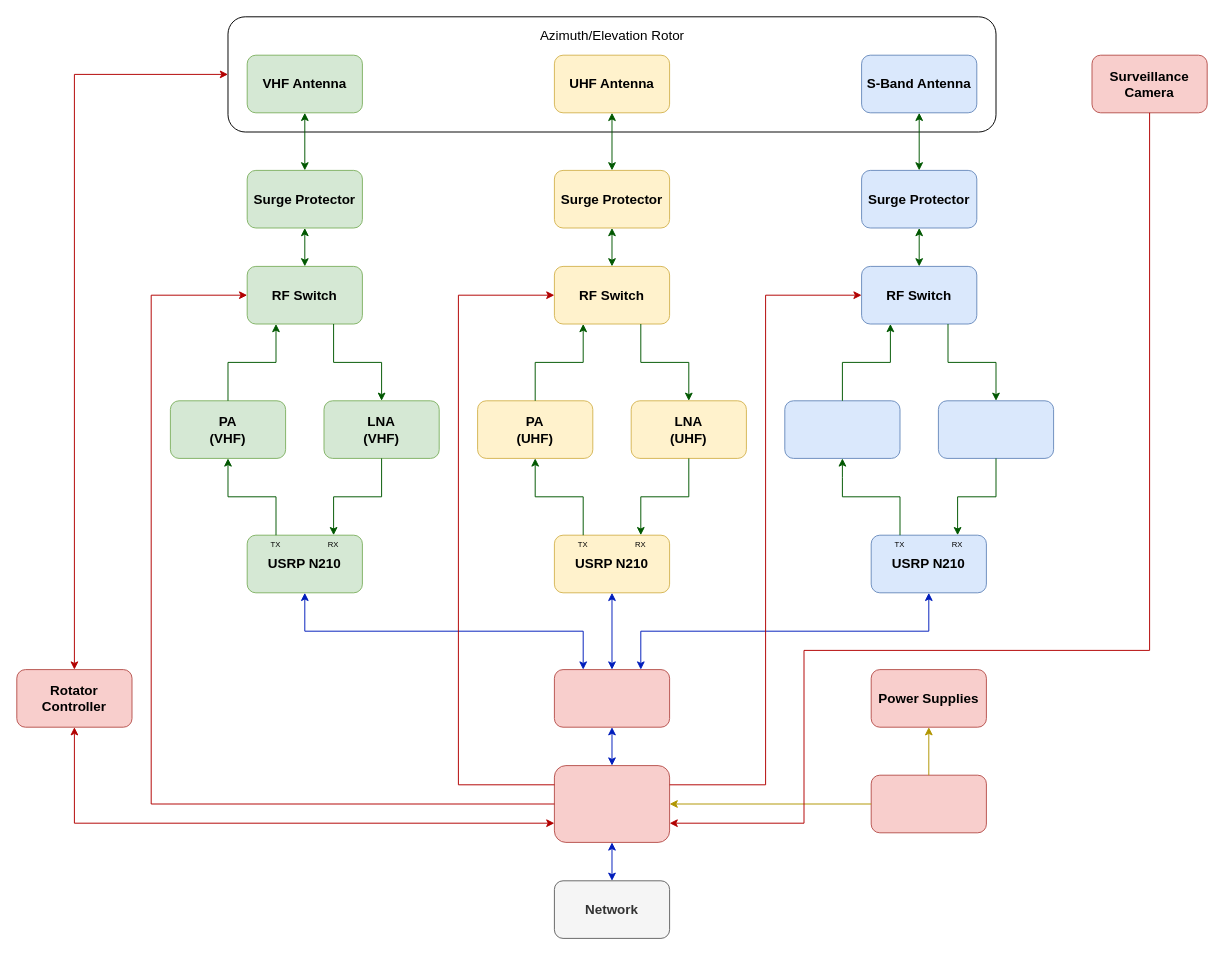
This 1224x955 diagram has some shape labels left out. The shapes that lost their labels are listed below. From the top down, each one's box as (x1, y1, x2, y2) in pixels, then its label:
(784, 400, 900, 458): PA (S-Band)
(937, 400, 1054, 458): LNA (S-Band)
(553, 669, 670, 727): Network Switch
(553, 765, 670, 842): Server
(870, 774, 986, 833): No-Break
